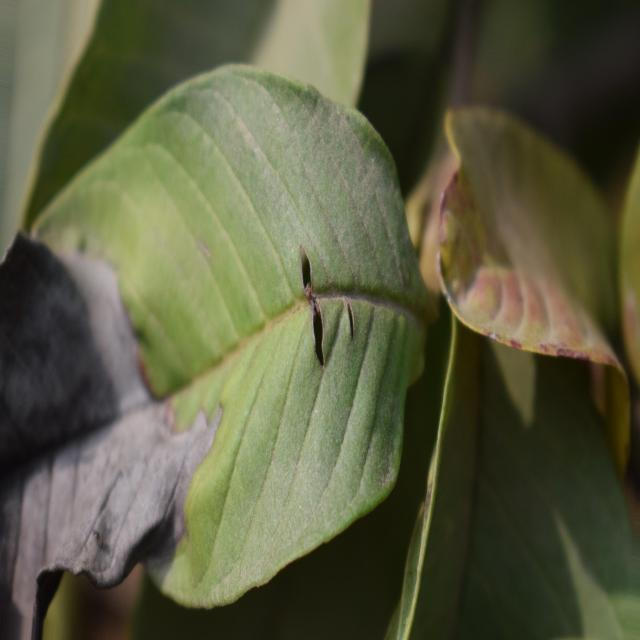Dot: (0, 66, 430, 638)
